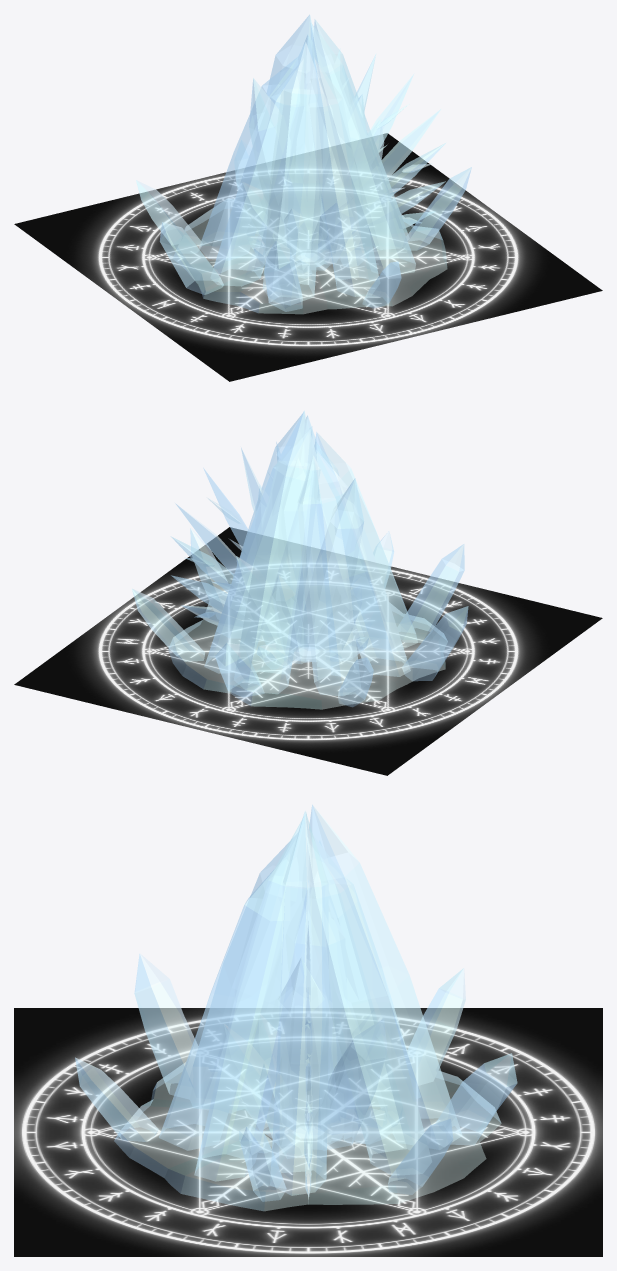
The model's file is queen-vfx.glb.
3 views of the same model, one above another, from view 1: azimuth 30°, elevation 25°; view 2: azimuth 150°, elevation 25°; view 3: azimuth 270°, elevation 25° (orthographic). The views are drawn at different scales.
Visible parts, largest first — view 1: QV_Sigil, QV_Prison, QV_Wing, QV_Spike2, QV_Spike; view 2: QV_Sigil, QV_Prison, QV_Spike2, QV_Wing, QV_Spike; view 3: QV_Sigil, QV_Prison, QV_Spike, QV_Spike2, QV_Wing.
Boxes of the visible parts, x1=… form: QV_Sigil: x1=14, y1=133, x2=602, y2=381; QV_Prison: x1=136, y1=14, x2=471, y2=313; QV_Wing: x1=337, y1=48, x2=445, y2=231; QV_Spike2: x1=249, y1=78, x2=365, y2=259; QV_Spike: x1=242, y1=142, x2=359, y2=273; QV_Sigil: x1=14, y1=527, x2=602, y2=775; QV_Prison: x1=132, y1=410, x2=468, y2=709; QV_Spike2: x1=257, y1=478, x2=368, y2=663; QV_Wing: x1=171, y1=442, x2=304, y2=625; QV_Spike: x1=236, y1=469, x2=361, y2=661; QV_Sigil: x1=14, y1=1008, x2=602, y2=1256; QV_Prison: x1=75, y1=804, x2=517, y2=1210; QV_Spike: x1=223, y1=900, x2=396, y2=1149; QV_Spike2: x1=239, y1=841, x2=384, y2=1148; QV_Wing: x1=304, y1=880, x2=312, y2=1198.
Size of the model in its own units: 2 by 1.62 by 2.
Materials: 3 (2 with a texture image).
